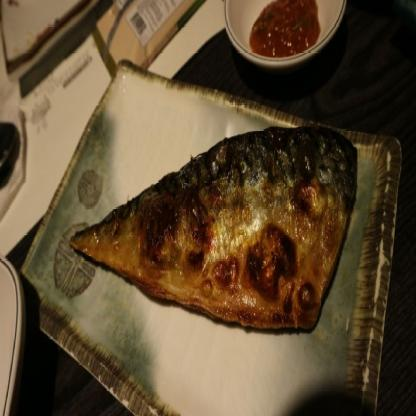Peixe: (47, 109, 361, 355)
